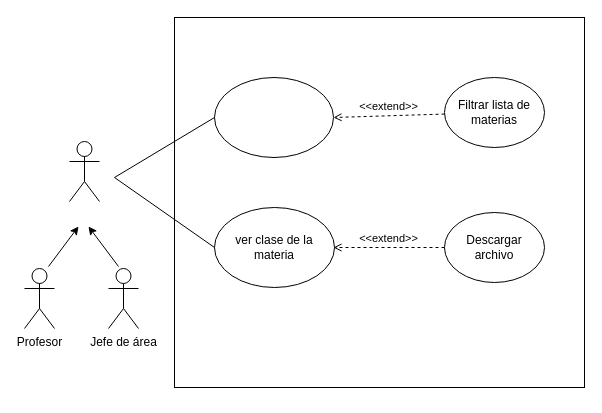
Some shapes in this 602 by 413 pixel diagram are drawn without their labels. Each missing label, with the box of its shape:
acceder a la lista de materias: (214, 76, 334, 158)
Usuario: (68, 140, 100, 202)
